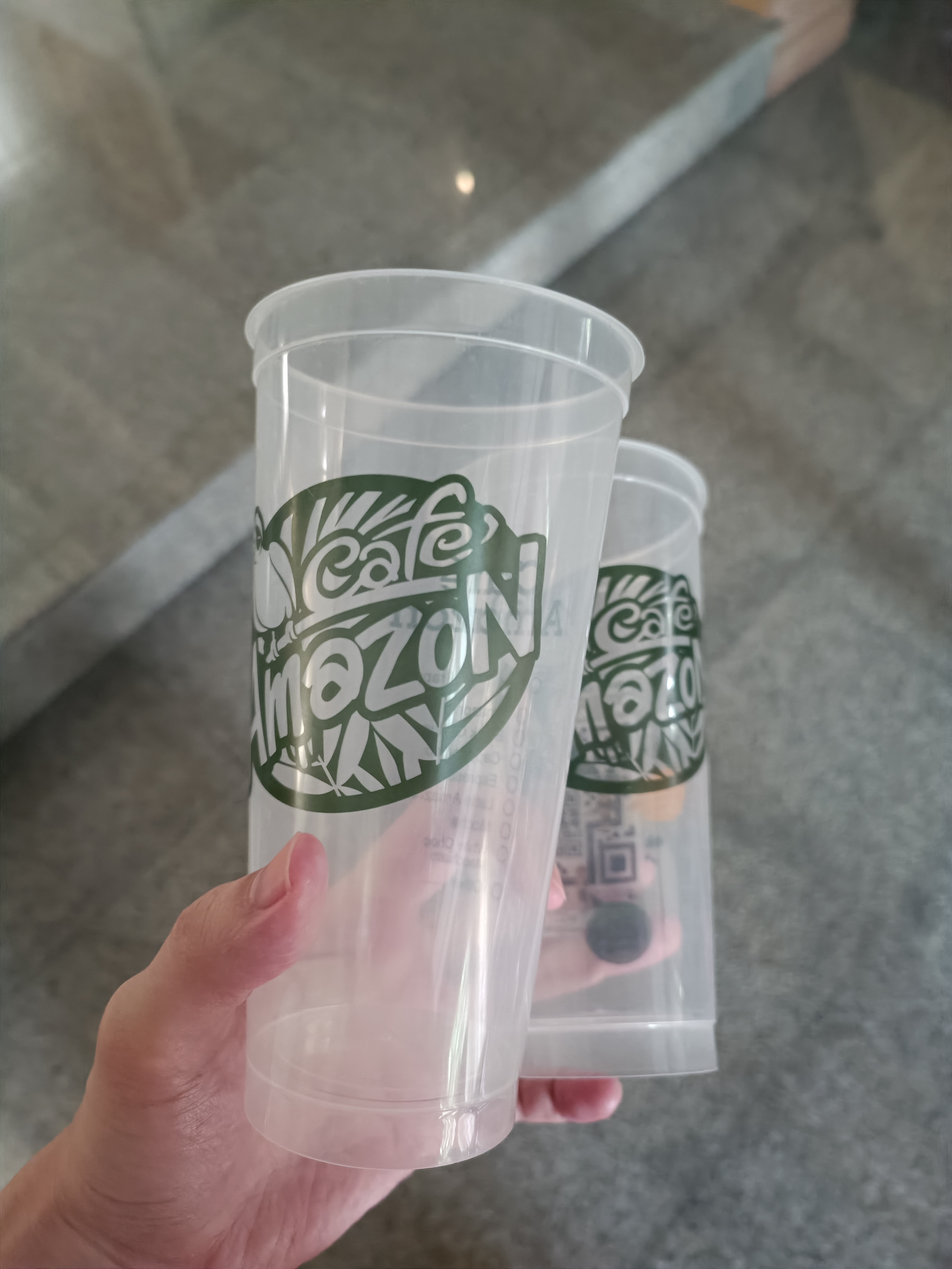plastic: (202, 246, 647, 1180)
